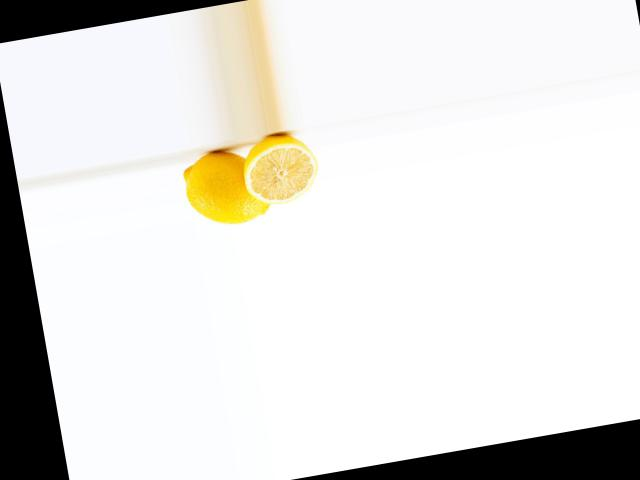lemon: (175, 134, 281, 229)
